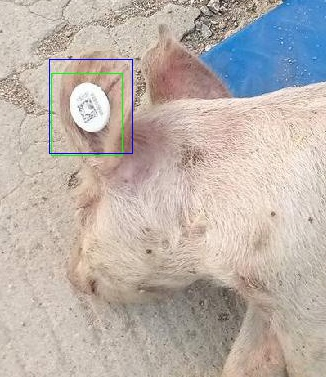text: (51, 73, 122, 155)
